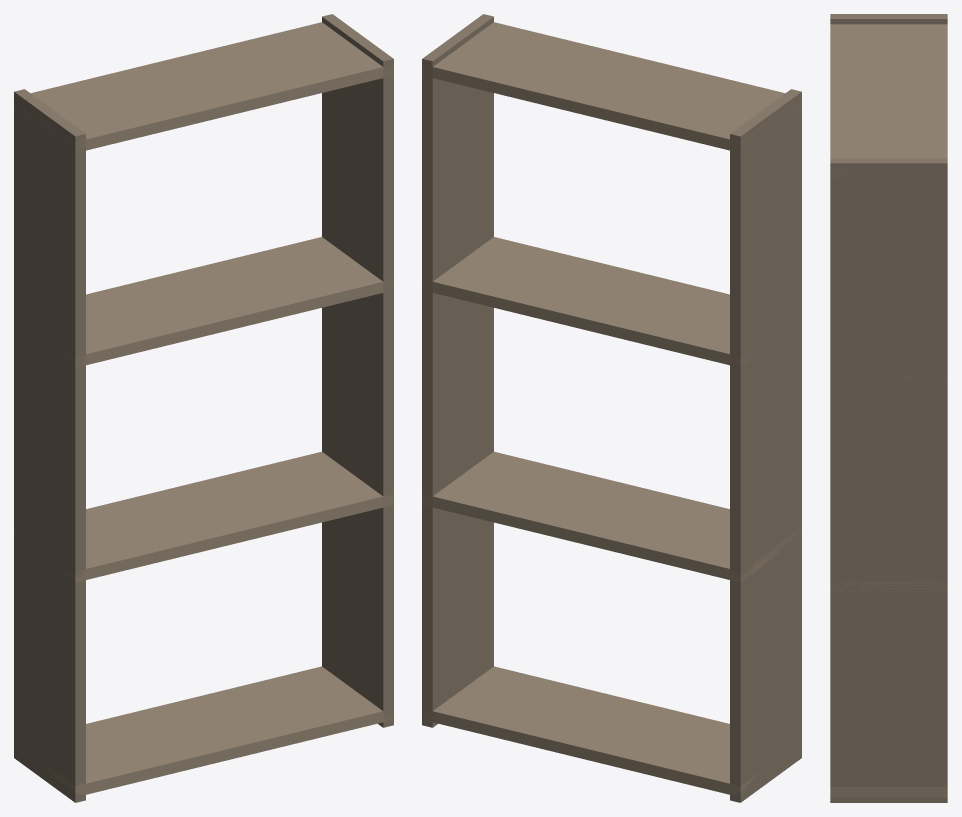
The model's file is cat_bookshelf_open-4tier.glb.
3 views of the same model, side by side, from view 1: azimuth 30°, elevation 25°; view 2: azimuth 150°, elevation 25°; view 3: azimuth 270°, elevation 25° (orthographic). The views are drawn at different scales.
Parts seen in each view (by area): view 1: geometry_0, geometry_1, geometry_5, geometry_2, geometry_3, geometry_4; view 2: geometry_0, geometry_1, geometry_5, geometry_3, geometry_4, geometry_2; view 3: geometry_1, geometry_5, geometry_0, geometry_2, geometry_3.
Part boxes in pixels (x1=…): geometry_0: x1=14, y1=89, x2=85, y2=802; geometry_1: x1=322, y1=14, x2=393, y2=727; geometry_5: x1=14, y1=22, x2=393, y2=152; geometry_2: x1=20, y1=666, x2=393, y2=795; geometry_3: x1=14, y1=451, x2=393, y2=582; geometry_4: x1=29, y1=237, x2=393, y2=367; geometry_0: x1=730, y1=89, x2=801, y2=802; geometry_1: x1=422, y1=14, x2=493, y2=727; geometry_5: x1=422, y1=22, x2=801, y2=152; geometry_3: x1=422, y1=451, x2=801, y2=582; geometry_4: x1=422, y1=237, x2=791, y2=367; geometry_2: x1=422, y1=666, x2=777, y2=795; geometry_1: x1=830, y1=158, x2=947, y2=802; geometry_5: x1=830, y1=24, x2=947, y2=178; geometry_0: x1=830, y1=14, x2=947, y2=24; geometry_2: x1=830, y1=787, x2=947, y2=797; geometry_3: x1=830, y1=581, x2=947, y2=591.
Size of the model in its own units: 0.9 by 1.8 by 0.3.
